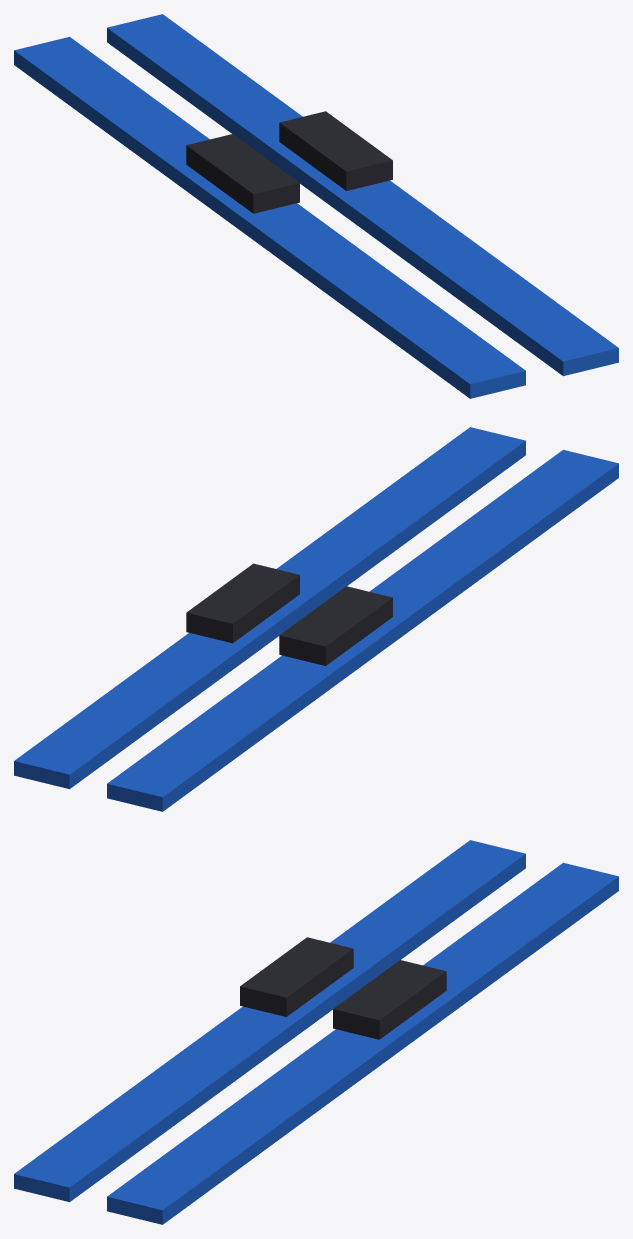
Rendered from ski_pair.glb.
The picture shows the model from 3 angles, top to bottom: view 1: azimuth 30°, elevation 25°; view 2: azimuth 150°, elevation 25°; view 3: azimuth 330°, elevation 25°; orthographic projection.
Visible parts, largest first — view 1: ski_pair; view 2: ski_pair; view 3: ski_pair.
Part boxes in pixels (x1,y1,x2,y2): ski_pair: [14, 14, 618, 398]; ski_pair: [14, 427, 618, 811]; ski_pair: [14, 840, 618, 1224].
Bounding box in the file's own units: 0.32 × 0.085 × 1.7.
